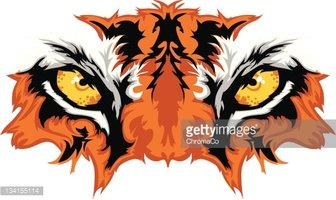Tigrew: (13, 9, 318, 184)
